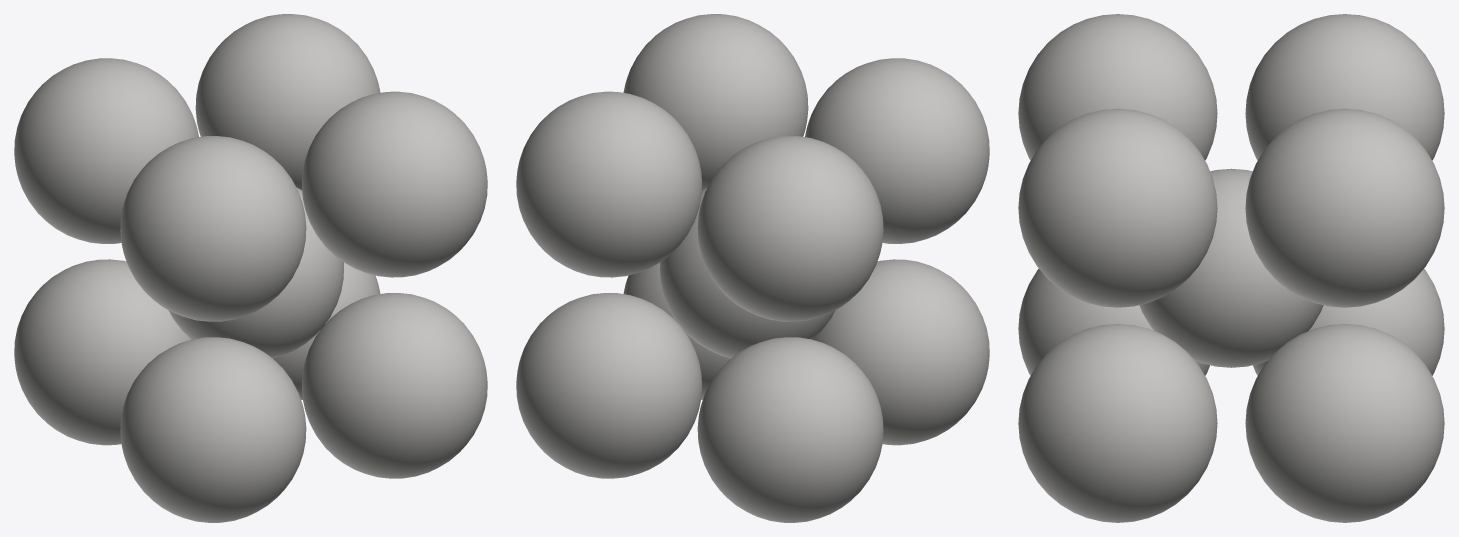
File: tixin5_1.FBX
3 renders of one model, left to right at view 1: azimuth 30°, elevation 25°; view 2: azimuth 150°, elevation 25°; view 3: azimuth 270°, elevation 25°, orthographic. The views are drawn at different scales.
Visible parts, largest first — view 1: 对象214; view 2: 对象214; view 3: 对象214.
Boxes of the visible parts, x1,y1,x2,y2 form: 对象214: (14,14,487,522); 对象214: (516,14,989,522); 对象214: (1018,14,1444,522).
Bounding box in the file's own units: 85.01 × 87.69 × 85.61.
